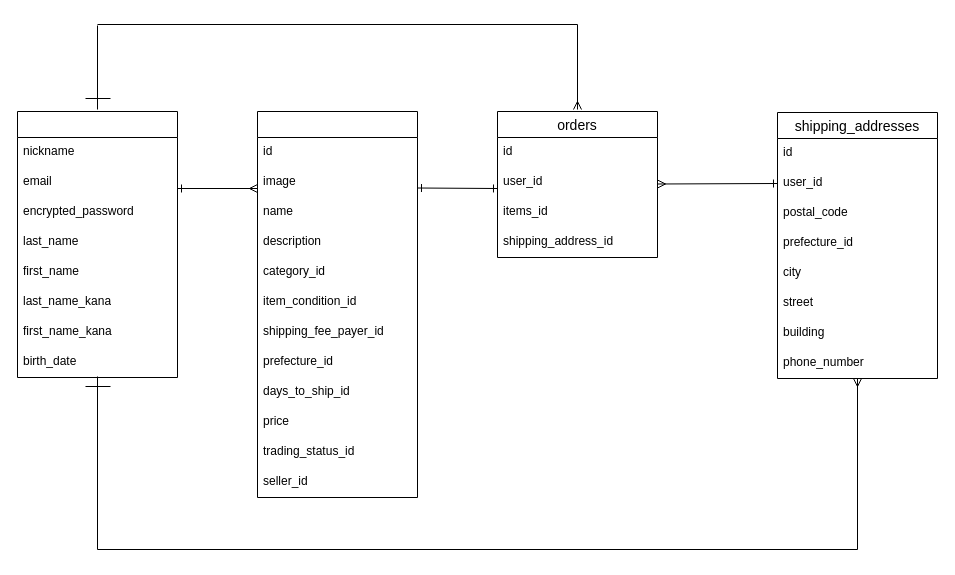
The diagram is 955 pixels wide and 575 high, and some of its shapes have lost their labels. The shapes that lost their labels are listed below. From the top down, each one's box as (x1, y1, x2, y2) in pixels, then its label:
(16, 110, 178, 378): users
(256, 110, 418, 498): items
